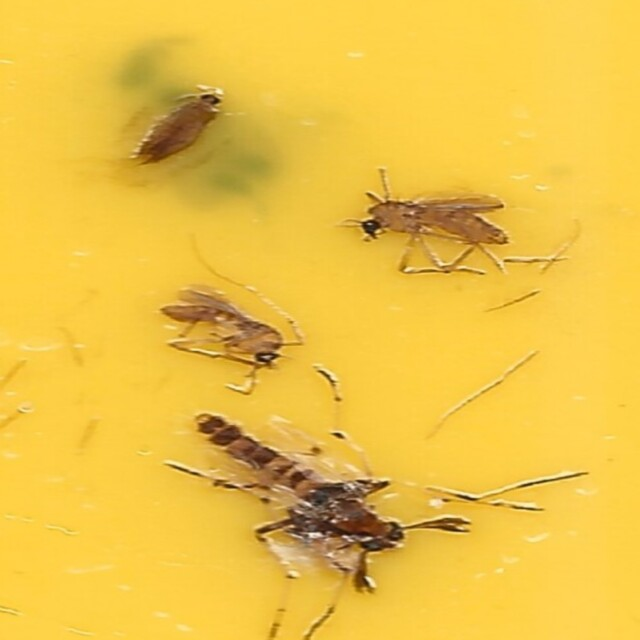Nematocera: (191, 409, 404, 553), (358, 196, 509, 250), (161, 300, 290, 361)
Trichoptera: (131, 87, 223, 168)
